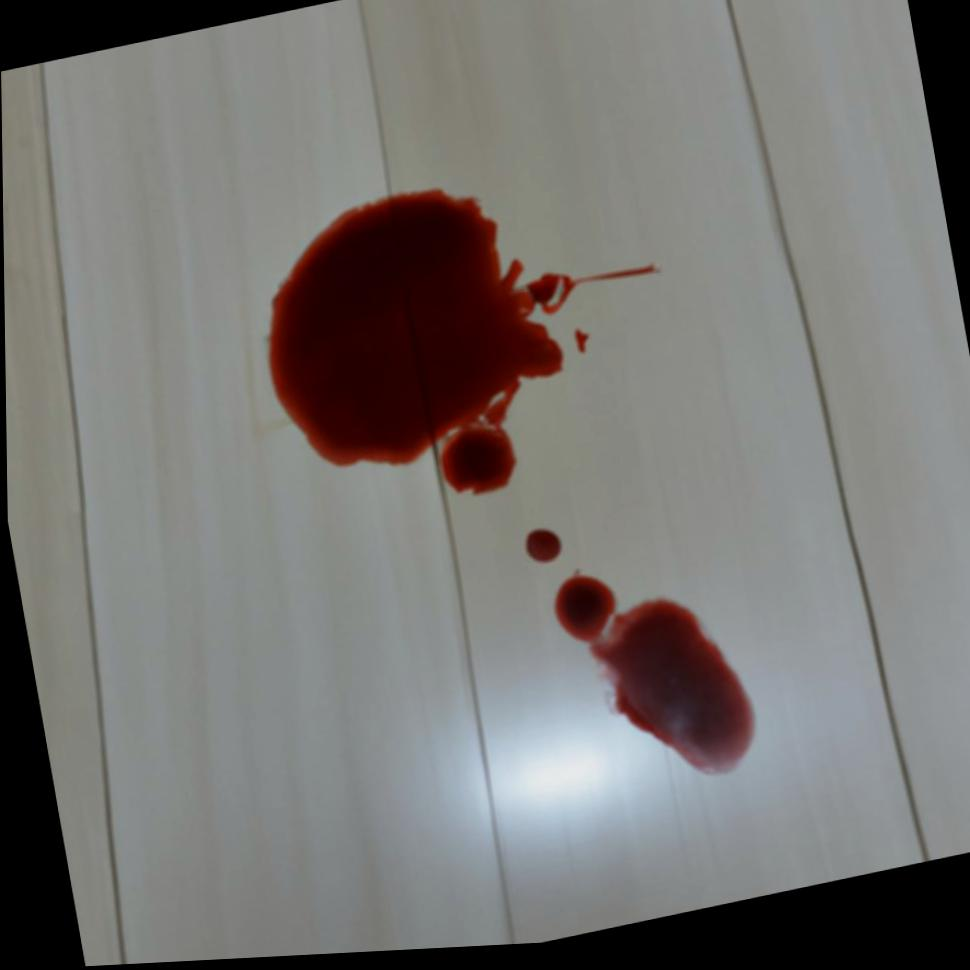Fire: (266, 192, 659, 499), (551, 575, 754, 782), (523, 535, 558, 568)
